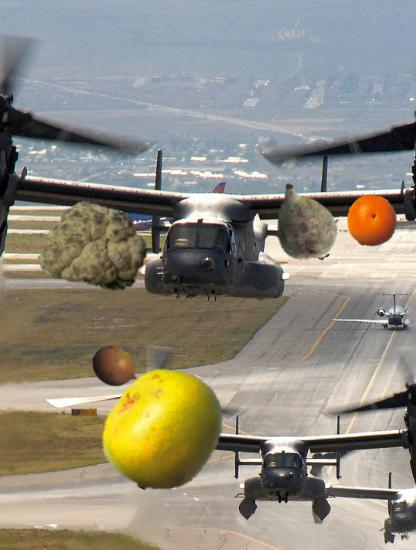Beetroot: (256, 172, 349, 265)
Cauliflower: (39, 190, 150, 301)
Granadilla: (91, 342, 144, 395)
Grapefruit: (346, 195, 398, 247)
Pomelo: (100, 366, 227, 493)
